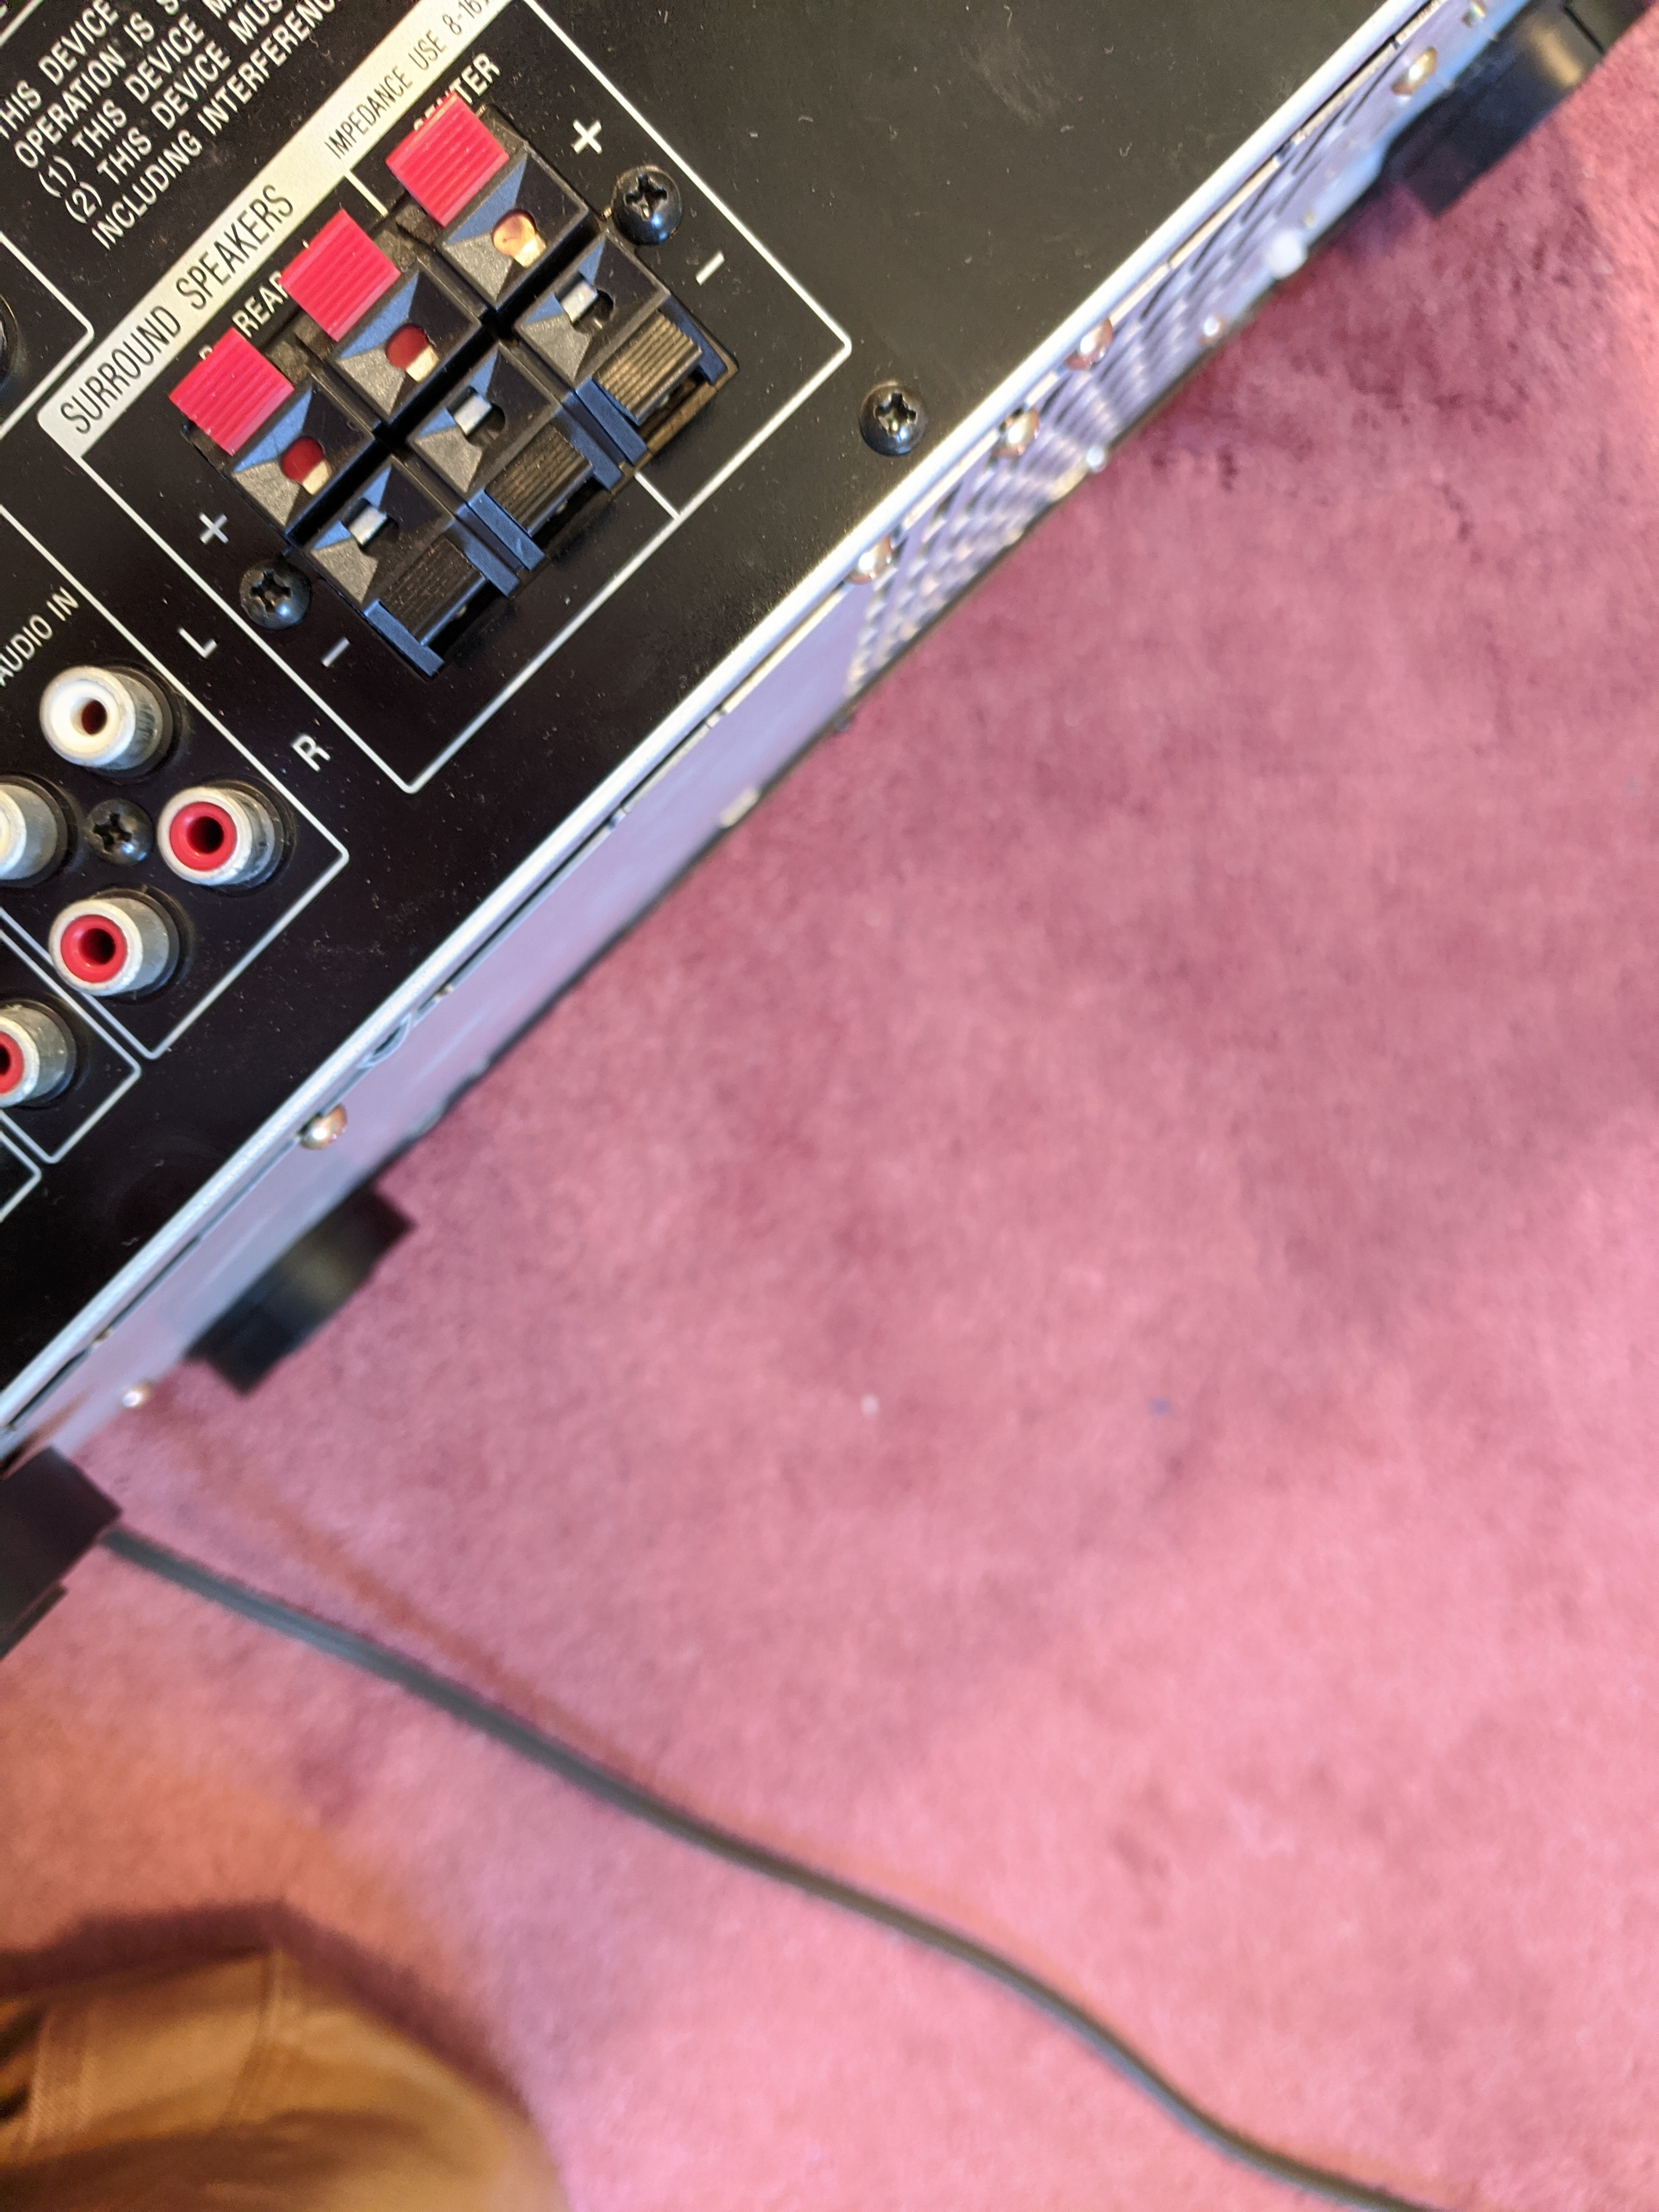cross_recessed_screw: (61, 786, 159, 878), (847, 368, 934, 455), (605, 145, 678, 228), (225, 552, 300, 625)
